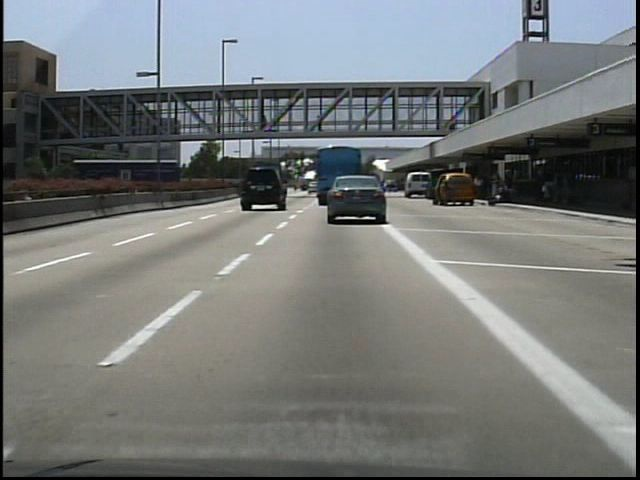person: (440, 177, 458, 213), (313, 114, 327, 139), (257, 112, 272, 134)
